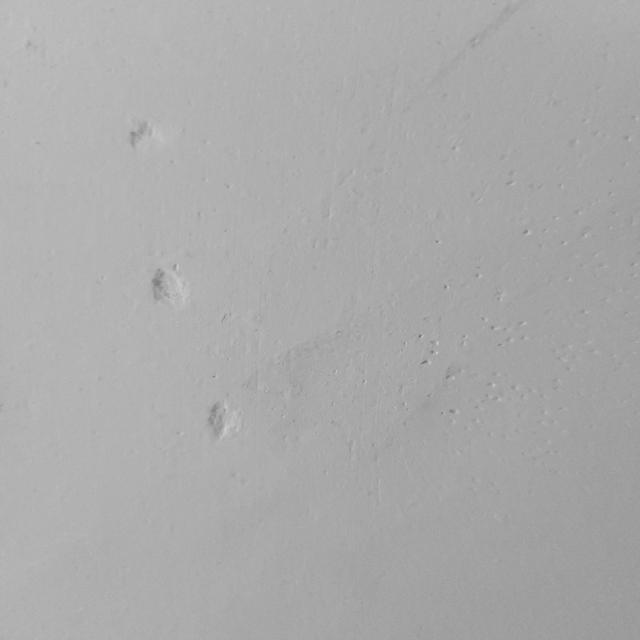rough and patchy surface: (350, 136, 632, 444), (108, 105, 258, 481), (394, 11, 617, 121), (352, 459, 630, 503), (14, 26, 62, 73)
